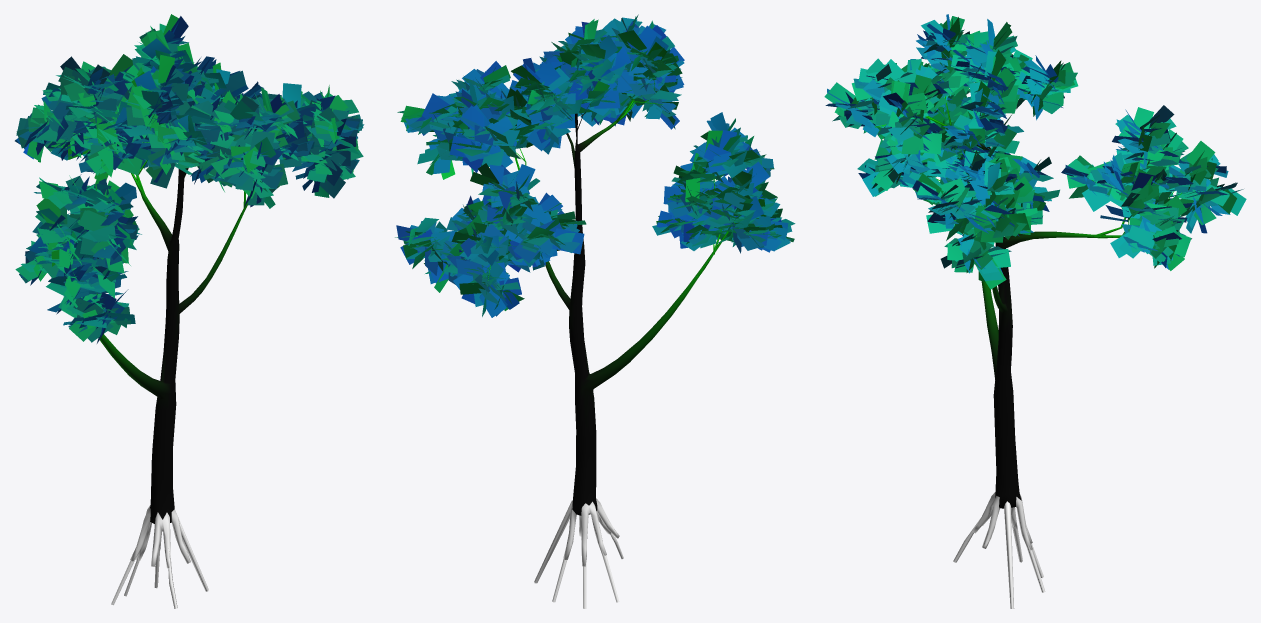
3 renders of one model, left to right at view 1: azimuth 30°, elevation 25°; view 2: azimuth 150°, elevation 25°; view 3: azimuth 270°, elevation 25°, orthographic. The views are drawn at different scales.
Parts seen in each view (by area): view 1: Foliage, Trunk, Branches, Roots, RootTips; view 2: Foliage, Trunk, Branches, Roots, RootTips, Twigs; view 3: Foliage, Trunk, Branches, RootTips, Roots.
Boxes of the visible parts, <box> form: Foliage: <box>15,14,364,343</box>; Trunk: <box>150,169,184,524</box>; Branches: <box>100,175,247,399</box>; Roots: <box>130,505,190,568</box>; RootTips: <box>111,513,208,608</box>; Foliage: <box>395,14,795,317</box>; Trunk: <box>569,137,597,515</box>; Branches: <box>516,102,720,390</box>; Roots: <box>563,498,619,566</box>; RootTips: <box>534,500,623,608</box>; Twigs: <box>415,75,739,285</box>; Foliage: <box>824,14,1246,289</box>; Trunk: <box>993,237,1021,508</box>; Branches: <box>925,116,1119,379</box>; RootTips: <box>953,501,1045,608</box>; Roots: <box>972,492,1032,549</box>.
Bounding box in the file's own units: 10490 × 10834 × 15874.
